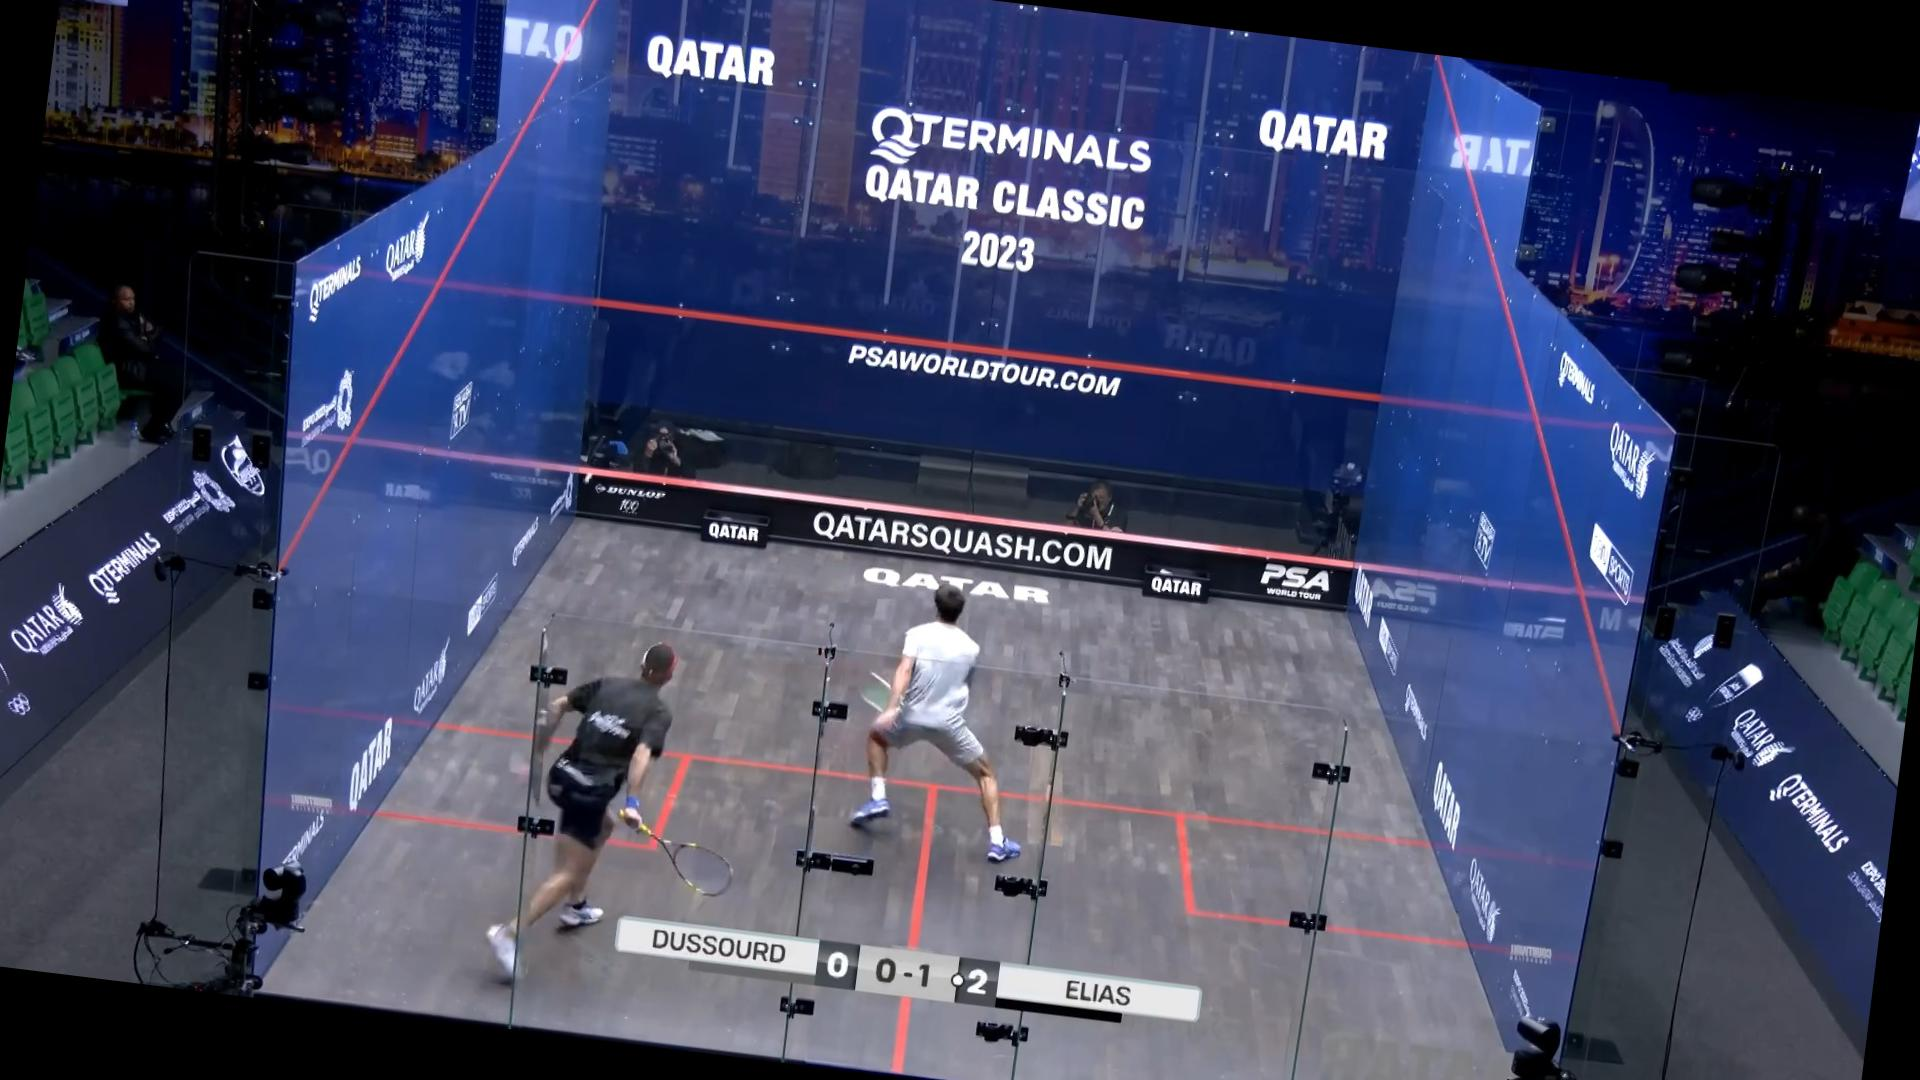Racket: (641, 818, 741, 903)
